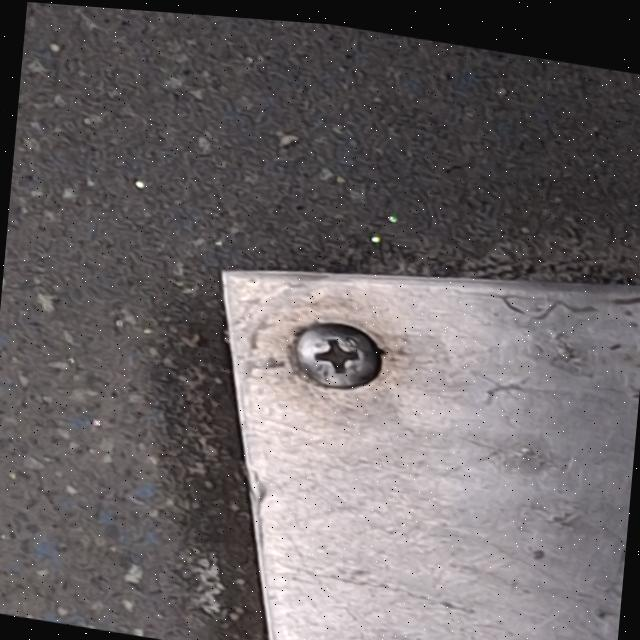Phillips: (273, 296, 397, 417)
